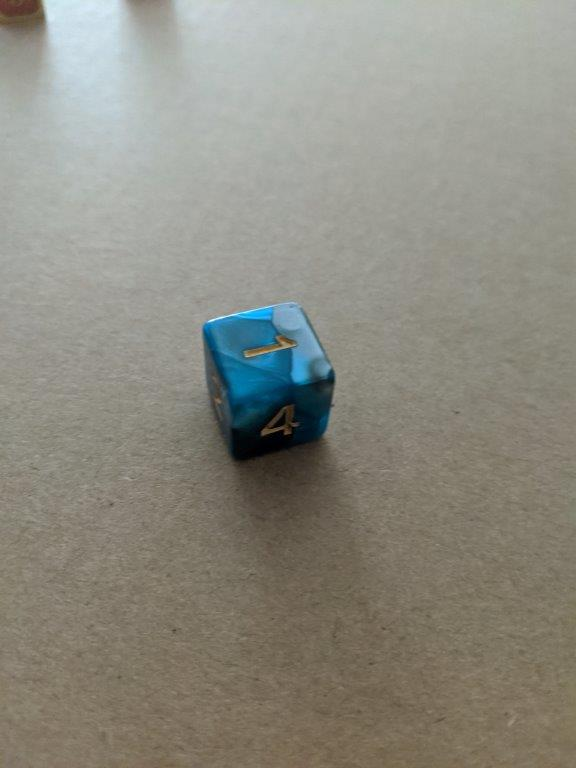d6-1: (203, 301, 336, 465)
